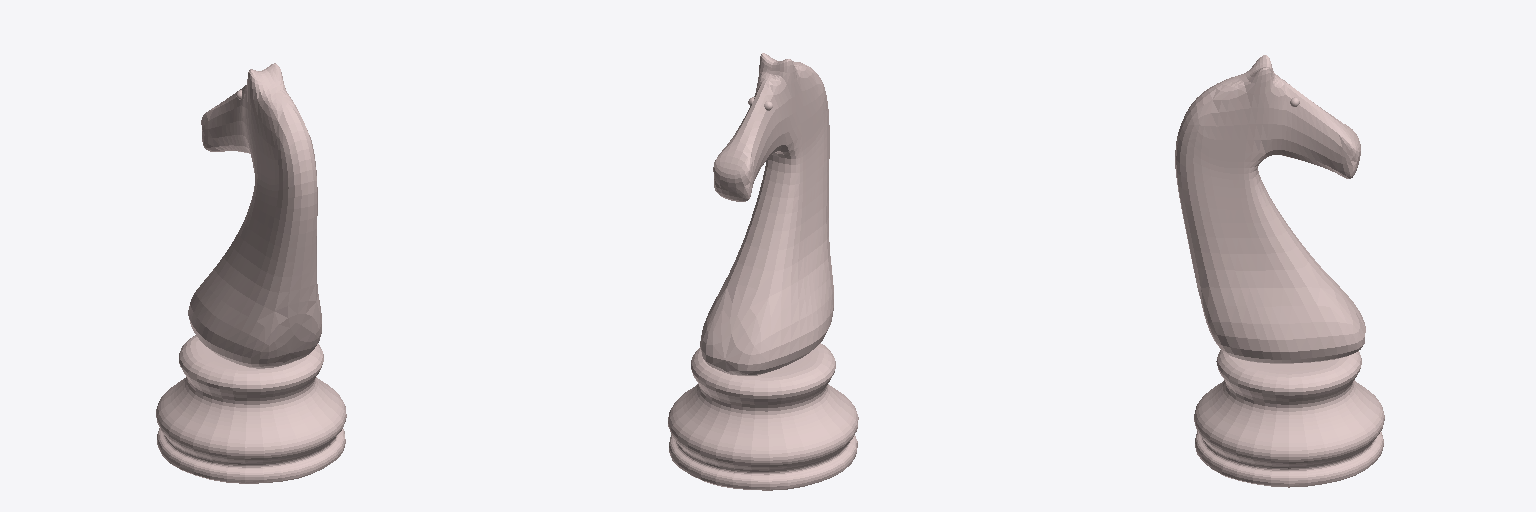
The model's file is Chessset.obj.
3 renders of one model, left to right at view 1: azimuth 30°, elevation 25°; view 2: azimuth 150°, elevation 25°; view 3: azimuth 270°, elevation 25°, orthographic.
Visible parts, largest first — view 1: Springer-m.001; view 2: Springer-m.001; view 3: Springer-m.001.
Part boxes in pixels (left/top/right/bottom): Springer-m.001: left=156, top=63, right=346, bottom=483; Springer-m.001: left=668, top=53, right=858, bottom=490; Springer-m.001: left=1175, top=55, right=1384, bottom=487.
Bounding box in the file's own units: 3.76 × 8.44 × 4.13.